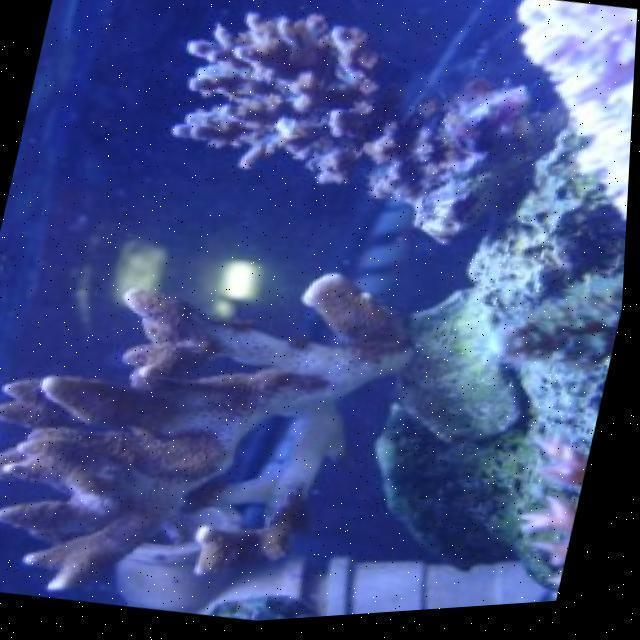Bleached Coral: (463, 0, 639, 247)
